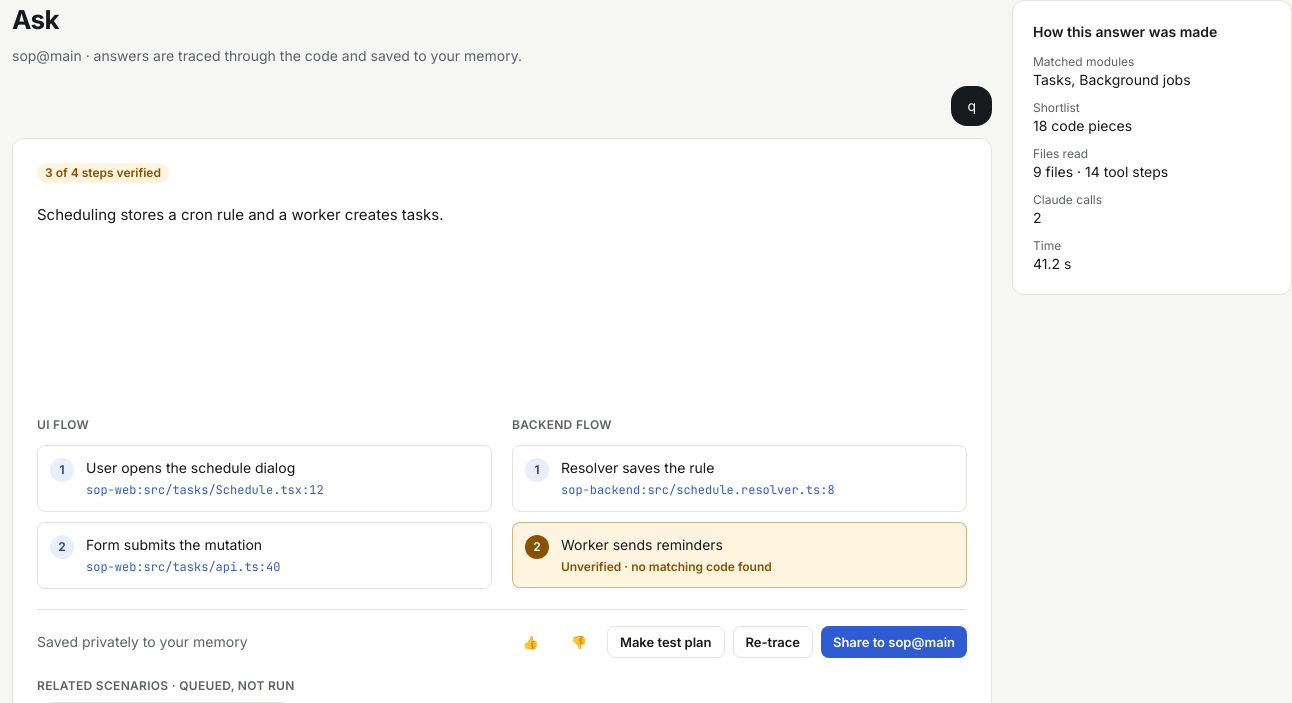
Test: share publishes the saved answer and flips the state
Click the button "Share to sop@main".
click(894, 642)  # box [821,626,967,658]
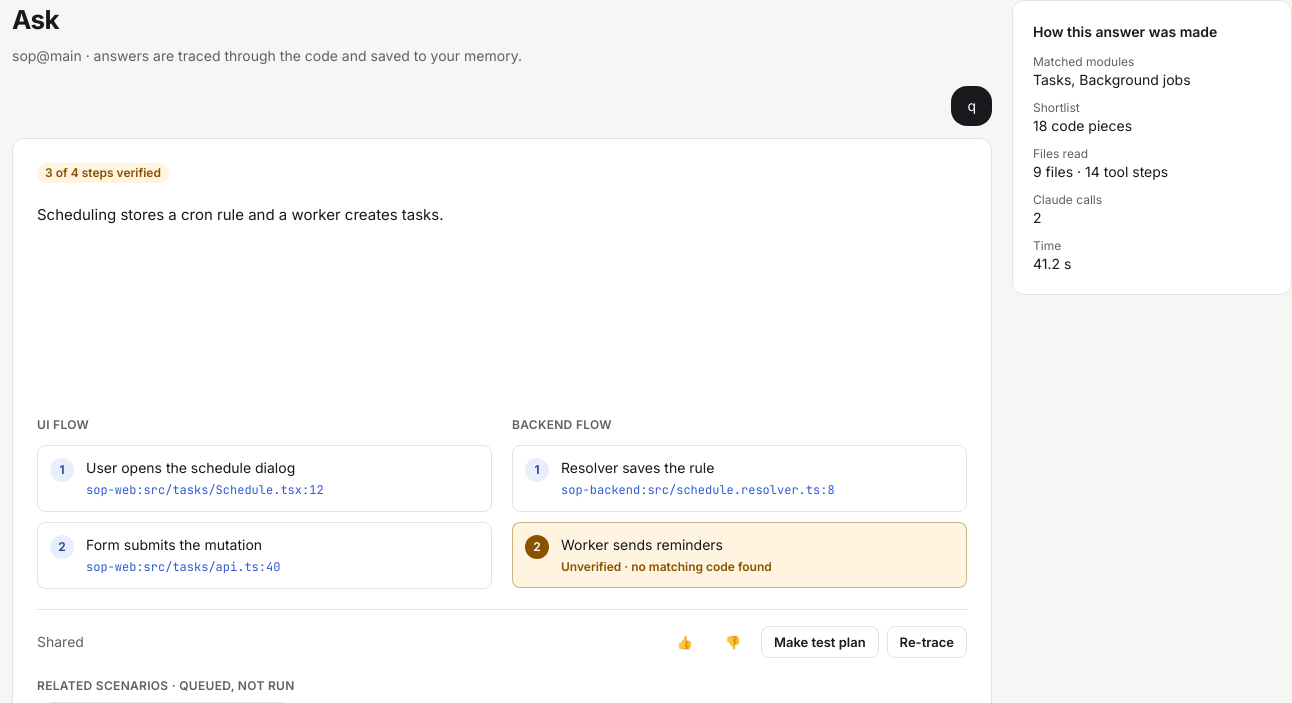
Now the text "Shared" is shown, box [37,632,84,652]
